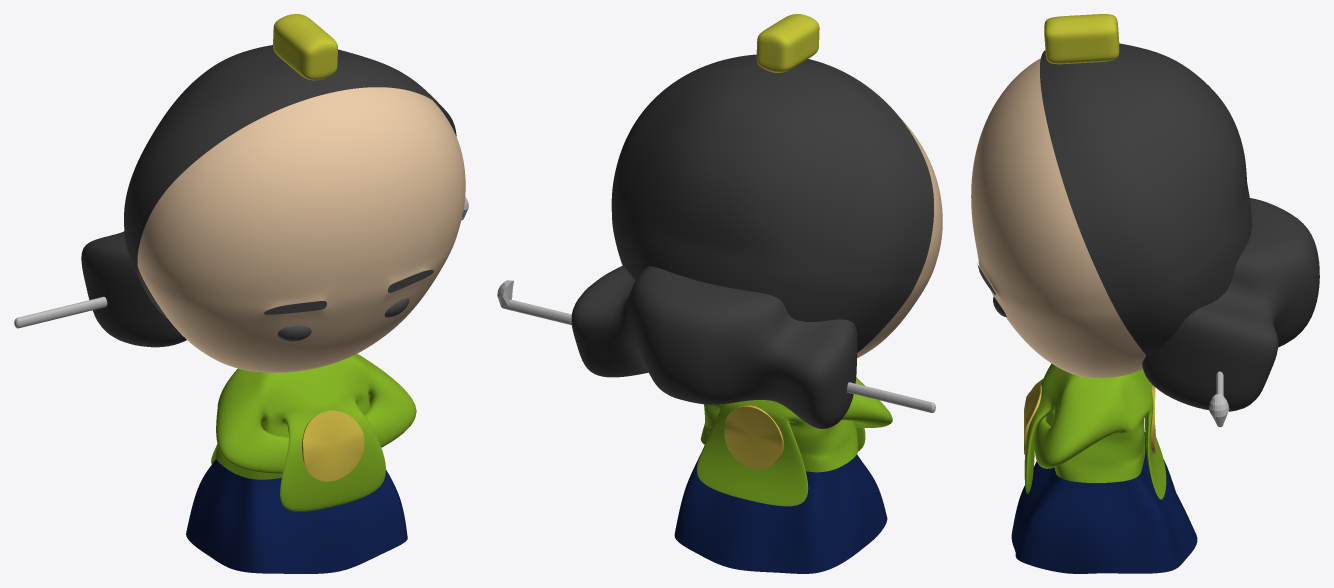
Rendered from QueenOriginal.fbx.
The picture shows the model from 3 angles, left to right: view 1: azimuth 30°, elevation 25°; view 2: azimuth 150°, elevation 25°; view 3: azimuth 270°, elevation 25°; orthographic projection. The views are drawn at different scales.
Parts seen in each view (by area): view 1: head_face, cloth_top, cloth_skirt, head_hair, head_hair_3, cloth_circle_front, hair_deco_up, hair_deco, eyebrow; view 2: head_hair, head_hair_3, cloth_skirt, cloth_top, cloth_circle_back, hair_deco_up, head_face, hair_deco; view 3: head_hair, head_face, head_hair_3, cloth_skirt, cloth_top, hair_deco_up, hair_deco, cloth_circle_front.
Boxes of the visible parts, bbox=[...] form: head_face: bbox=[137, 87, 465, 372]; cloth_top: bbox=[211, 354, 416, 511]; cloth_skirt: bbox=[186, 459, 407, 573]; head_hair: bbox=[124, 45, 456, 319]; head_hair_3: bbox=[81, 231, 186, 347]; cloth_circle_front: bbox=[302, 410, 364, 481]; hair_deco_up: bbox=[273, 14, 337, 80]; hair_deco: bbox=[14, 197, 468, 328]; eyebrow: bbox=[264, 270, 433, 314]; head_hair: bbox=[611, 54, 933, 352]; head_hair_3: bbox=[571, 266, 857, 429]; cloth_skirt: bbox=[674, 445, 887, 573]; cloth_top: bbox=[697, 377, 892, 506]; cloth_circle_back: bbox=[724, 405, 783, 469]; hair_deco_up: bbox=[756, 14, 819, 72]; head_face: bbox=[857, 118, 942, 358]; hair_deco: bbox=[497, 280, 935, 412]; head_hair: bbox=[1040, 43, 1251, 357]; head_face: bbox=[971, 58, 1146, 378]; head_hair_3: bbox=[1142, 198, 1319, 411]; cloth_skirt: bbox=[1011, 432, 1197, 573]; cloth_top: bbox=[1024, 363, 1166, 499]; hair_deco_up: bbox=[1044, 14, 1119, 64]; hair_deco: bbox=[1209, 371, 1229, 427]; cloth_circle_front: bbox=[1024, 384, 1041, 454].
Bounding box in the file's own units: 264 × 292 × 176.
